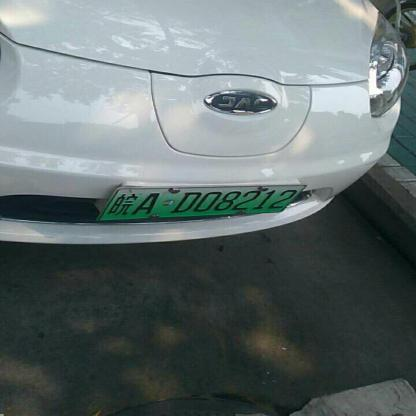lp: (99, 184, 306, 218)
